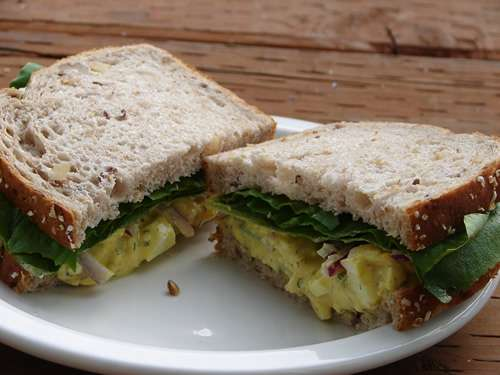sandwich: (3, 33, 287, 332), (201, 113, 500, 334)
